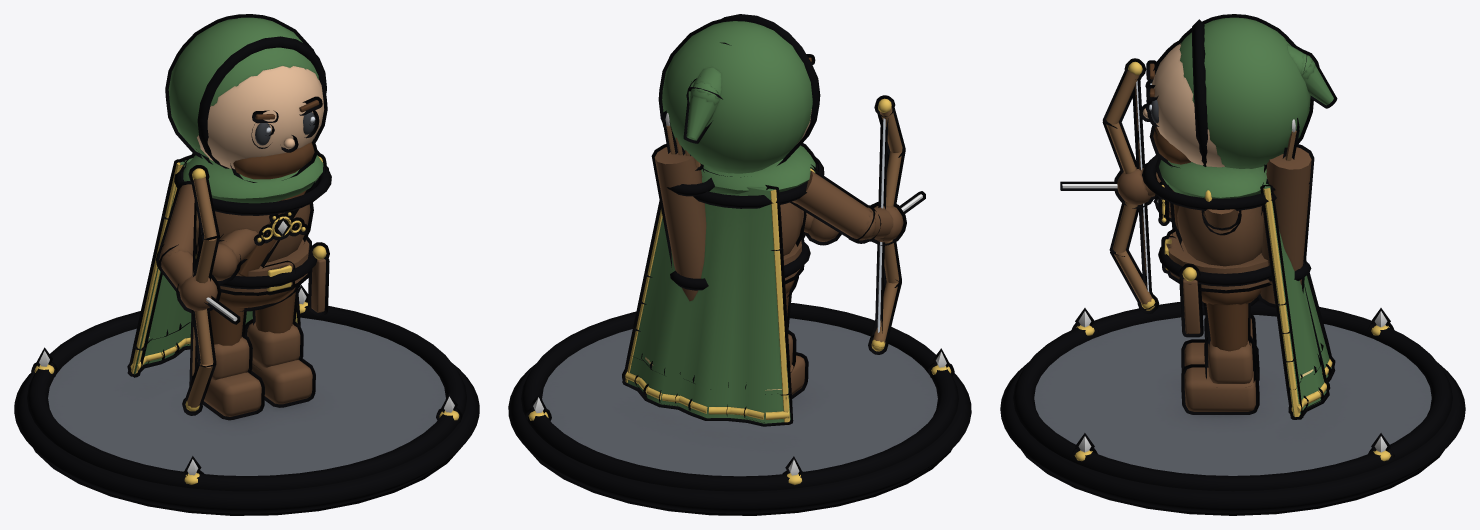
The model's file is hunter_s4.fbx.
3 views of the same model, side by side, from view 1: azimuth 30°, elevation 25°; view 2: azimuth 150°, elevation 25°; view 3: azimuth 270°, elevation 25° (orthographic).
Parts seen in each view (by area): view 1: hunter_s4; view 2: hunter_s4; view 3: hunter_s4.
Boxes of the visible parts, <box> form: hunter_s4: <box>14,14,479,515</box>; hunter_s4: <box>508,14,971,515</box>; hunter_s4: <box>1000,14,1465,515</box>.
Size of the model in its own units: 1.58 by 1.5 by 1.58.
Materials: 2 (1 with a texture image).
